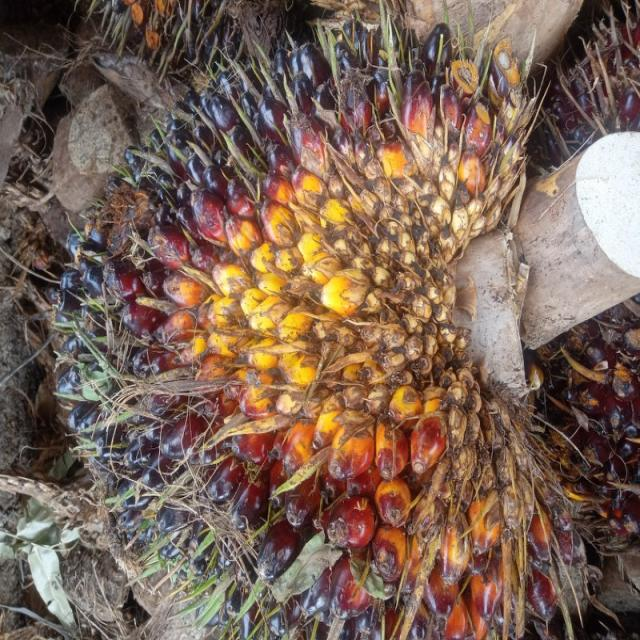fraksi 00: (56, 40, 559, 637)
